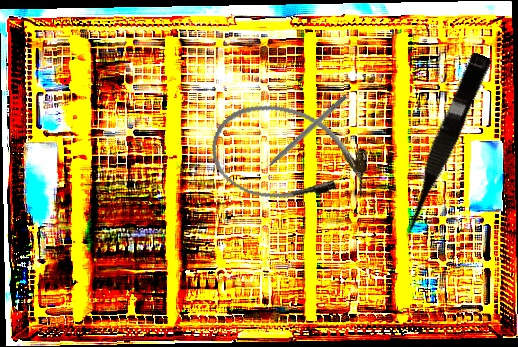Cannula: (202, 92, 378, 220)
Hook Surgical: (254, 93, 349, 178)
Micro Scissor: (392, 49, 493, 242)
